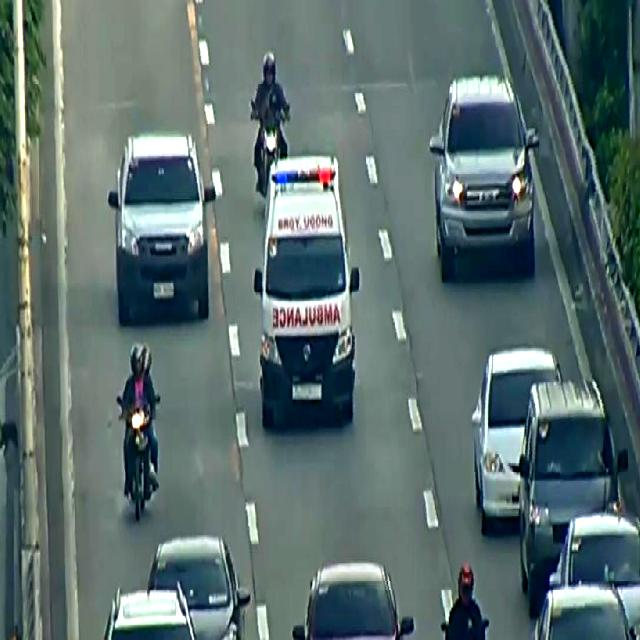emergency: (254, 150, 360, 434)
